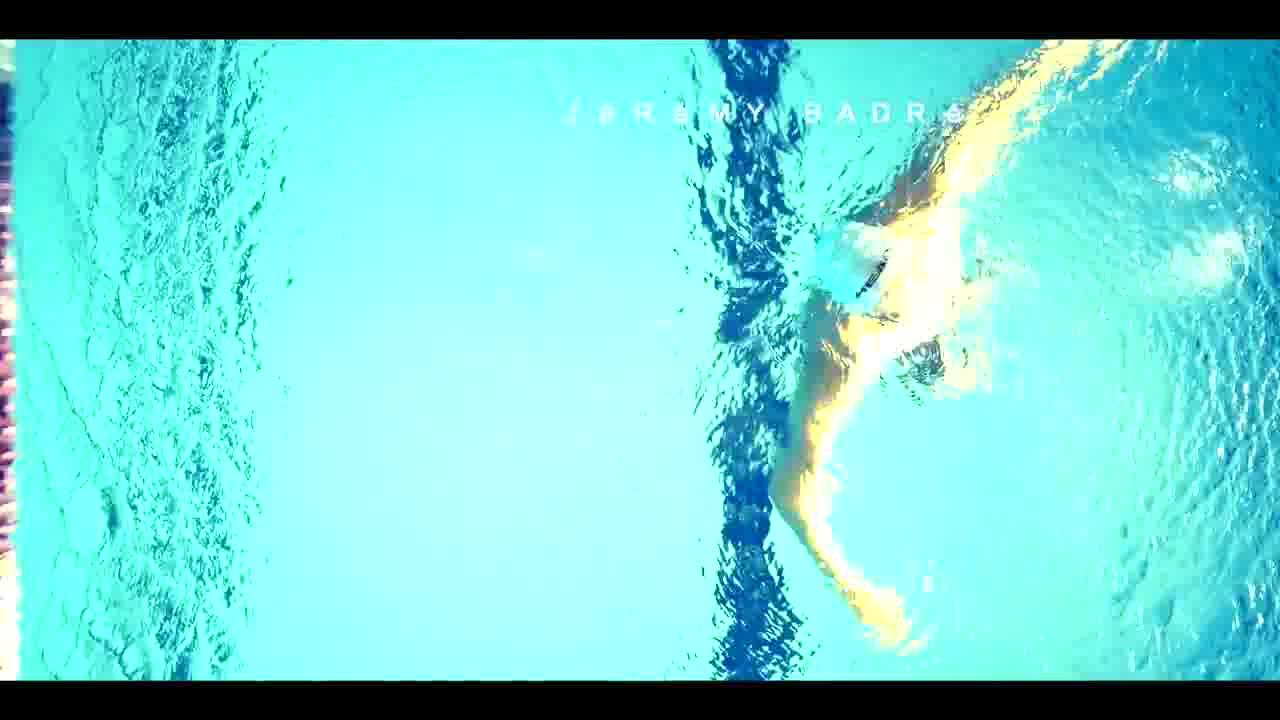human: (700, 74, 1151, 615)
